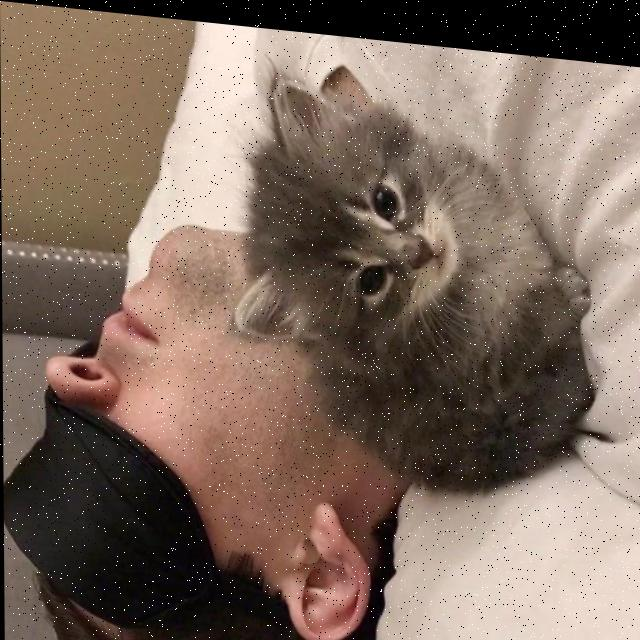Cats: (213, 45, 599, 527)
